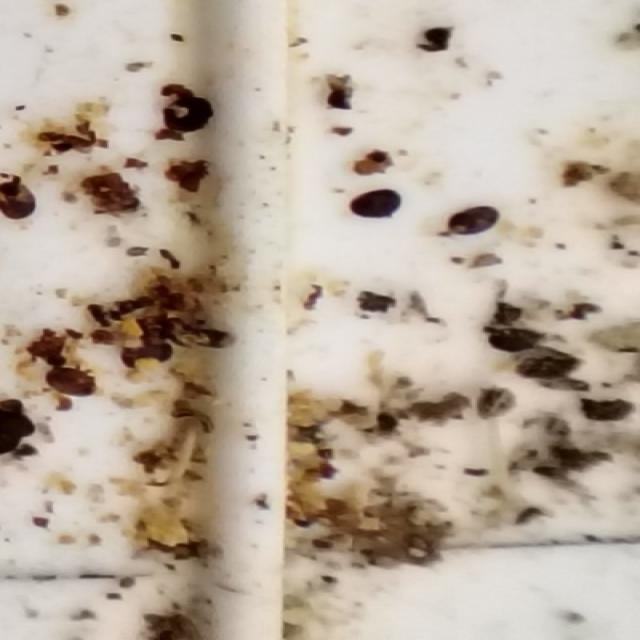varroa: (448, 207, 507, 243), (347, 187, 407, 222), (517, 353, 583, 382), (488, 327, 551, 354)
